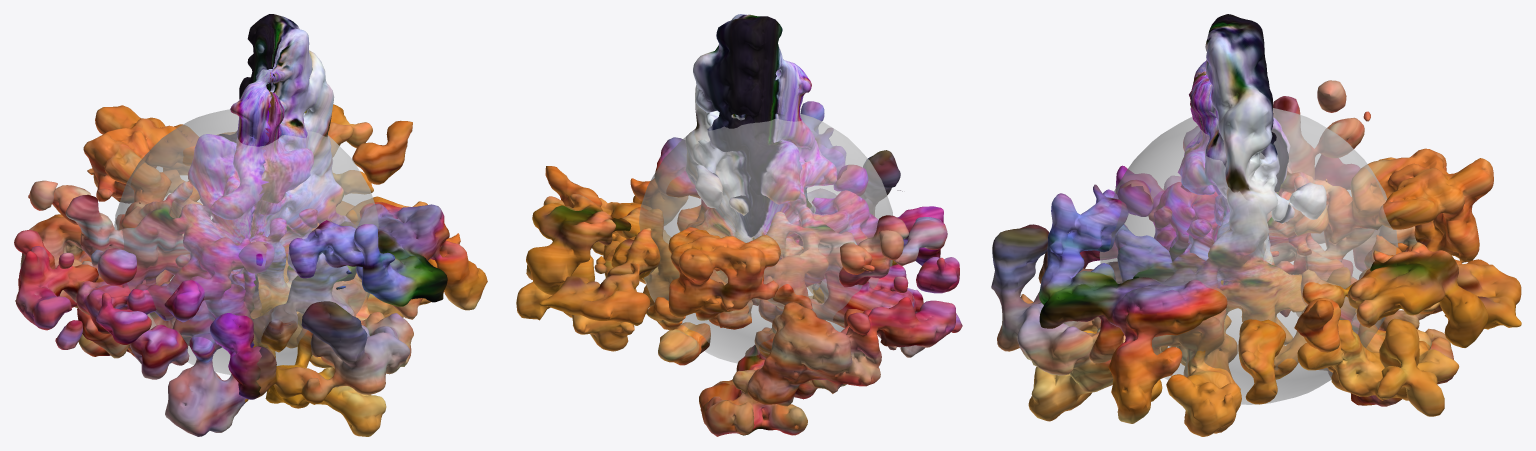
File: erythra.glb
The picture shows the model from 3 angles, left to right: view 1: azimuth 30°, elevation 25°; view 2: azimuth 150°, elevation 25°; view 3: azimuth 270°, elevation 25°; orthographic projection. The views are drawn at different scales.
Parts seen in each view (by area): view 1: triangle_mesh_morph, Sphere.001; view 2: triangle_mesh_morph, Sphere.001; view 3: triangle_mesh_morph, Sphere.001.
Boxes of the visible parts, bbox=[...] form: triangle_mesh_morph: bbox=[14, 14, 487, 436]; Sphere.001: bbox=[114, 109, 378, 374]; triangle_mesh_morph: bbox=[516, 14, 962, 436]; Sphere.001: bbox=[639, 113, 893, 363]; triangle_mesh_morph: bbox=[991, 14, 1521, 436]; Sphere.001: bbox=[1099, 108, 1398, 404].
Bounding box in the file's own units: 3.44 × 2.99 × 3.54.
2 materials, 1 textured.
